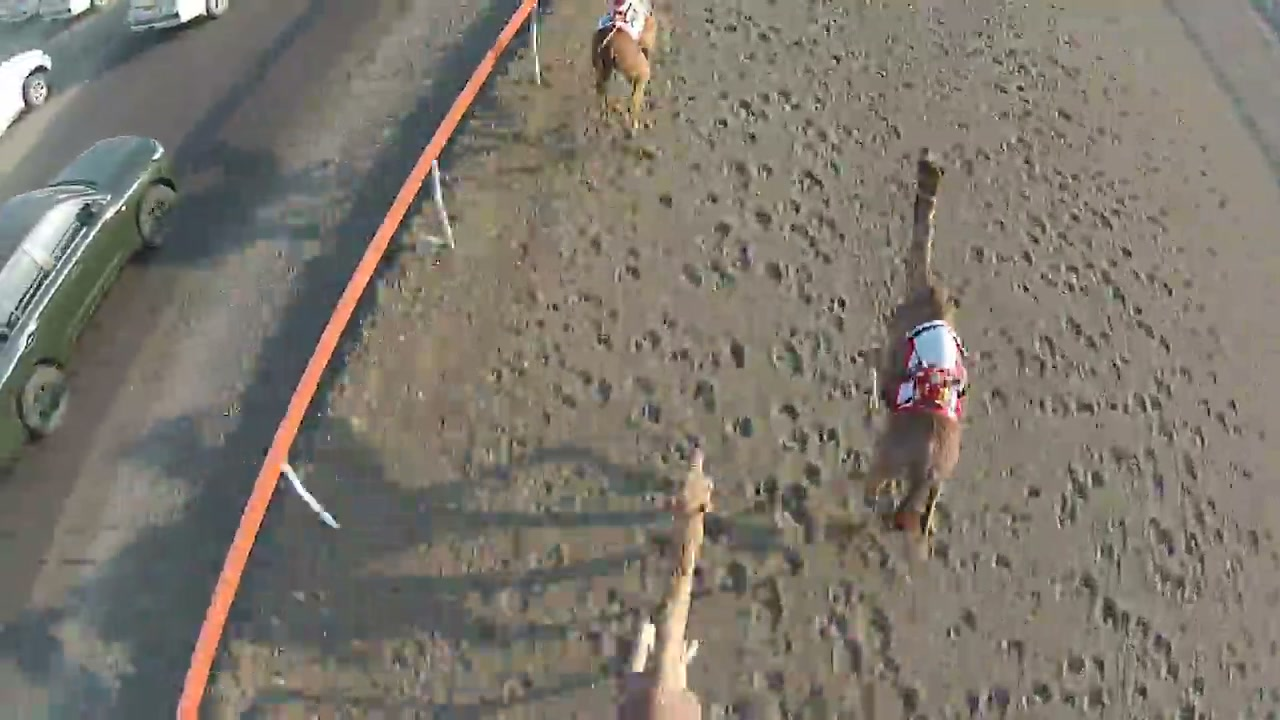animal_footprint: (954, 46, 1248, 695), (477, 18, 717, 709), (608, 2, 846, 660), (839, 35, 977, 706)
